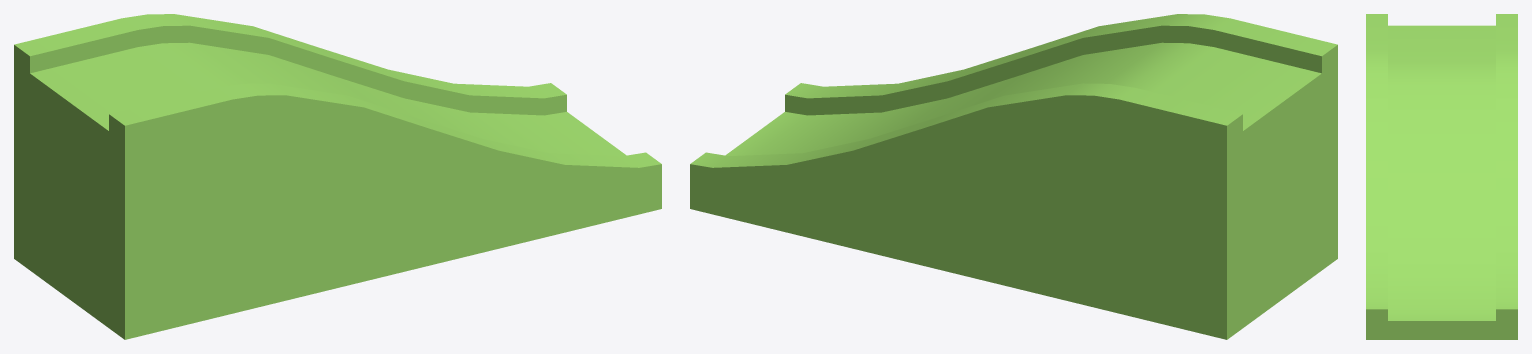
Rendered from ramp.glb.
3 views of the same model, side by side, from view 1: azimuth 30°, elevation 25°; view 2: azimuth 150°, elevation 25°; view 3: azimuth 270°, elevation 25° (orthographic). The views are drawn at different scales.
Parts seen in each view (by area): view 1: ramp; view 2: ramp; view 3: ramp.
Boxes of the visible parts, x1,y1,x2,y2 form: ramp: (14,14,661,339); ramp: (690,14,1337,339); ramp: (1366,14,1517,339).
Bounding box in the file's own units: 12.44 × 4.74 × 4.45.
